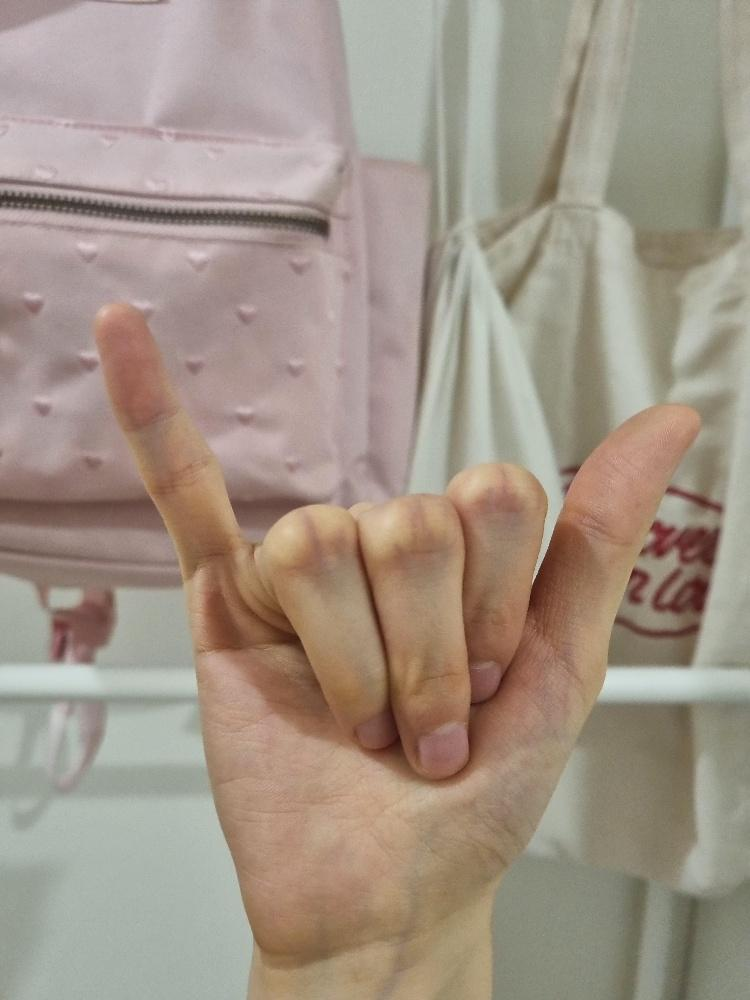y: (91, 298, 702, 956)
